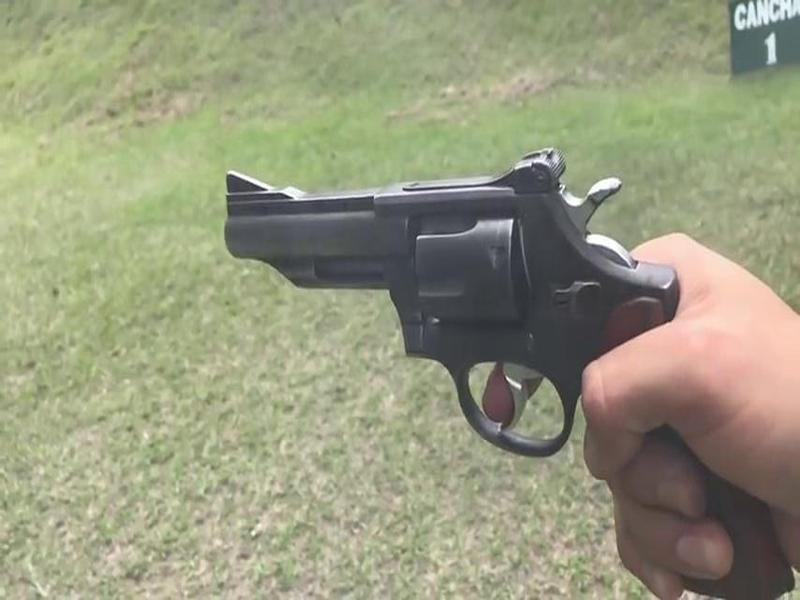Revolver: (194, 147, 760, 461)
